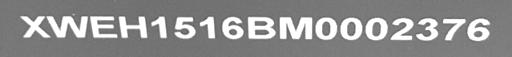letter: (46, 11, 90, 40), (276, 13, 314, 42), (86, 10, 118, 41), (465, 14, 497, 45), (16, 12, 50, 41), (244, 13, 278, 42), (114, 13, 148, 40), (362, 14, 390, 45), (168, 13, 198, 40), (412, 15, 442, 42), (195, 11, 221, 42), (218, 12, 244, 43), (312, 14, 340, 41), (338, 14, 364, 43), (440, 14, 466, 43), (145, 10, 169, 41), (388, 15, 414, 42)
